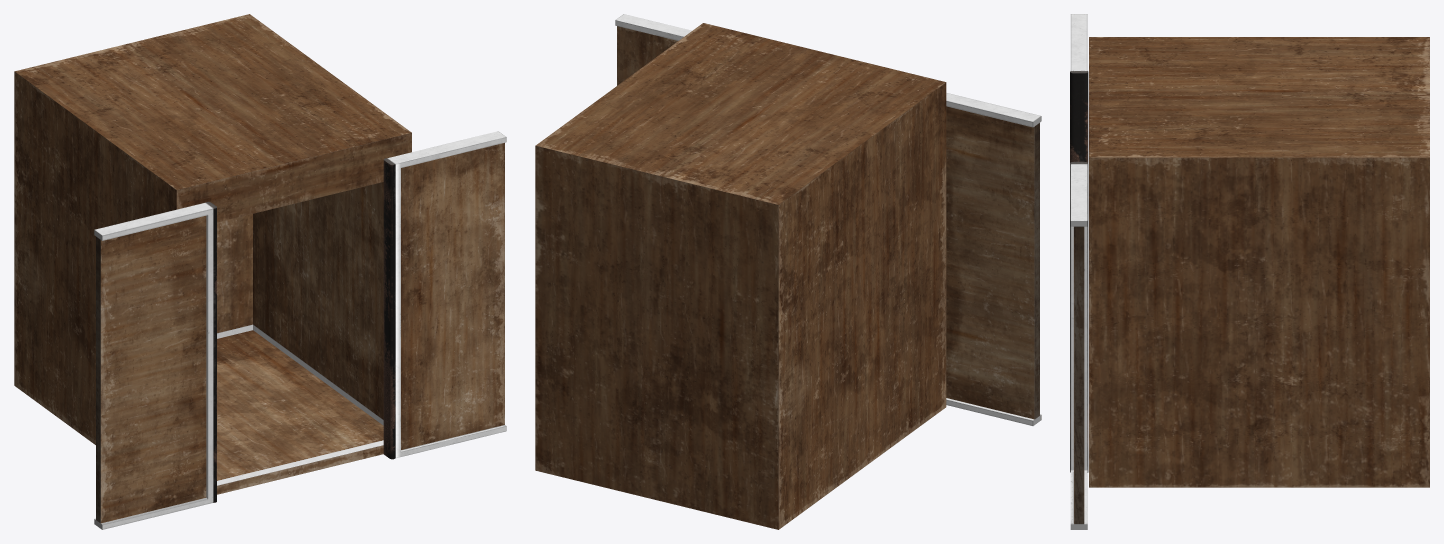
The model's file is elevator 1.glb.
3 views of the same model, side by side, from view 1: azimuth 30°, elevation 25°; view 2: azimuth 150°, elevation 25°; view 3: azimuth 270°, elevation 25° (orthographic). The views are drawn at different scales.
Visible parts, largest first — view 1: Cube.001_0; view 2: Cube.001_0; view 3: Cube.001_0.
Boxes of the visible parts, x1,y1,x2,y2 form: Cube.001_0: (14,14,506,529); Cube.001_0: (535,14,1041,529); Cube.001_0: (1070,14,1429,529).
Size of the model in its own units: 3.04 by 2.26 by 2.24.
2 materials, 2 textured.
